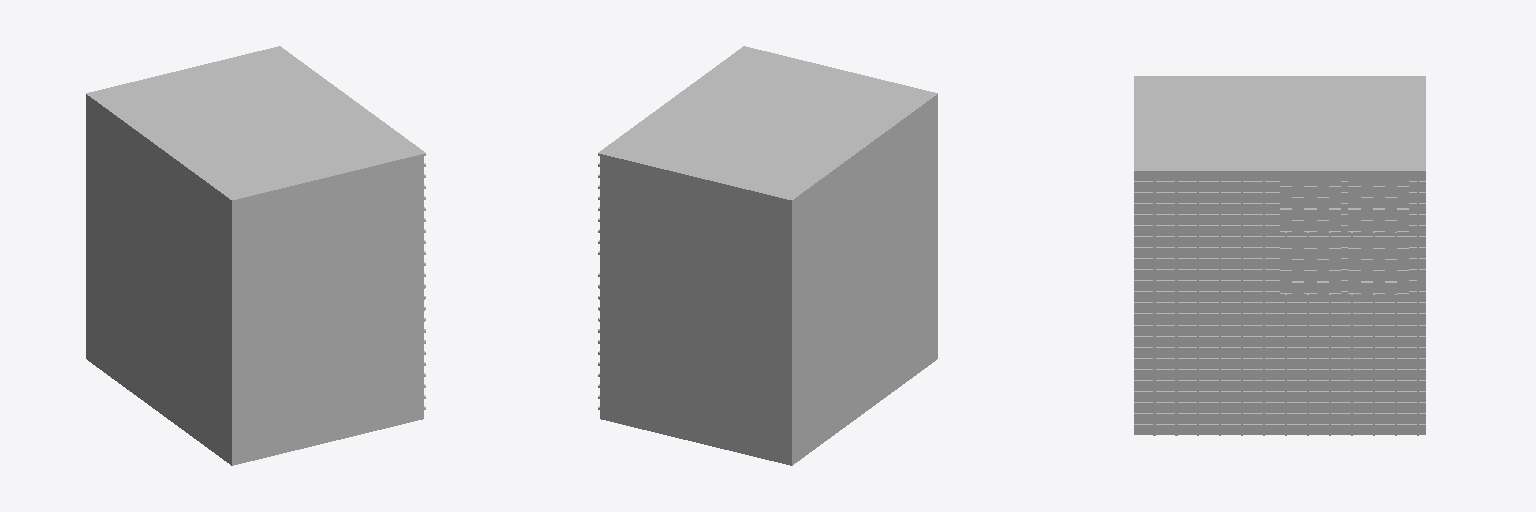
The model's file is 3d fon 1.1-4.obj.
3 views of the same model, side by side, from view 1: azimuth 30°, elevation 25°; view 2: azimuth 150°, elevation 25°; view 3: azimuth 270°, elevation 25° (orthographic).
Parts seen in each view (by area): view 1: object 1; view 2: object 1; view 3: object 1.
Boxes of the visible parts, box(x1,y1,x2,y2) form: object 1: box(86, 46, 425, 465); object 1: box(598, 46, 937, 465); object 1: box(1134, 76, 1425, 435).
Size of the model in its own units: 9.2 by 12 by 12.